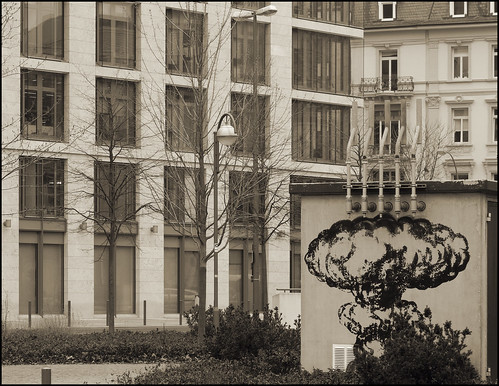building: (1, 1, 362, 361), (362, 1, 499, 184)
graffiti: (301, 213, 483, 363)
tree: (138, 23, 275, 343), (55, 69, 166, 345)
